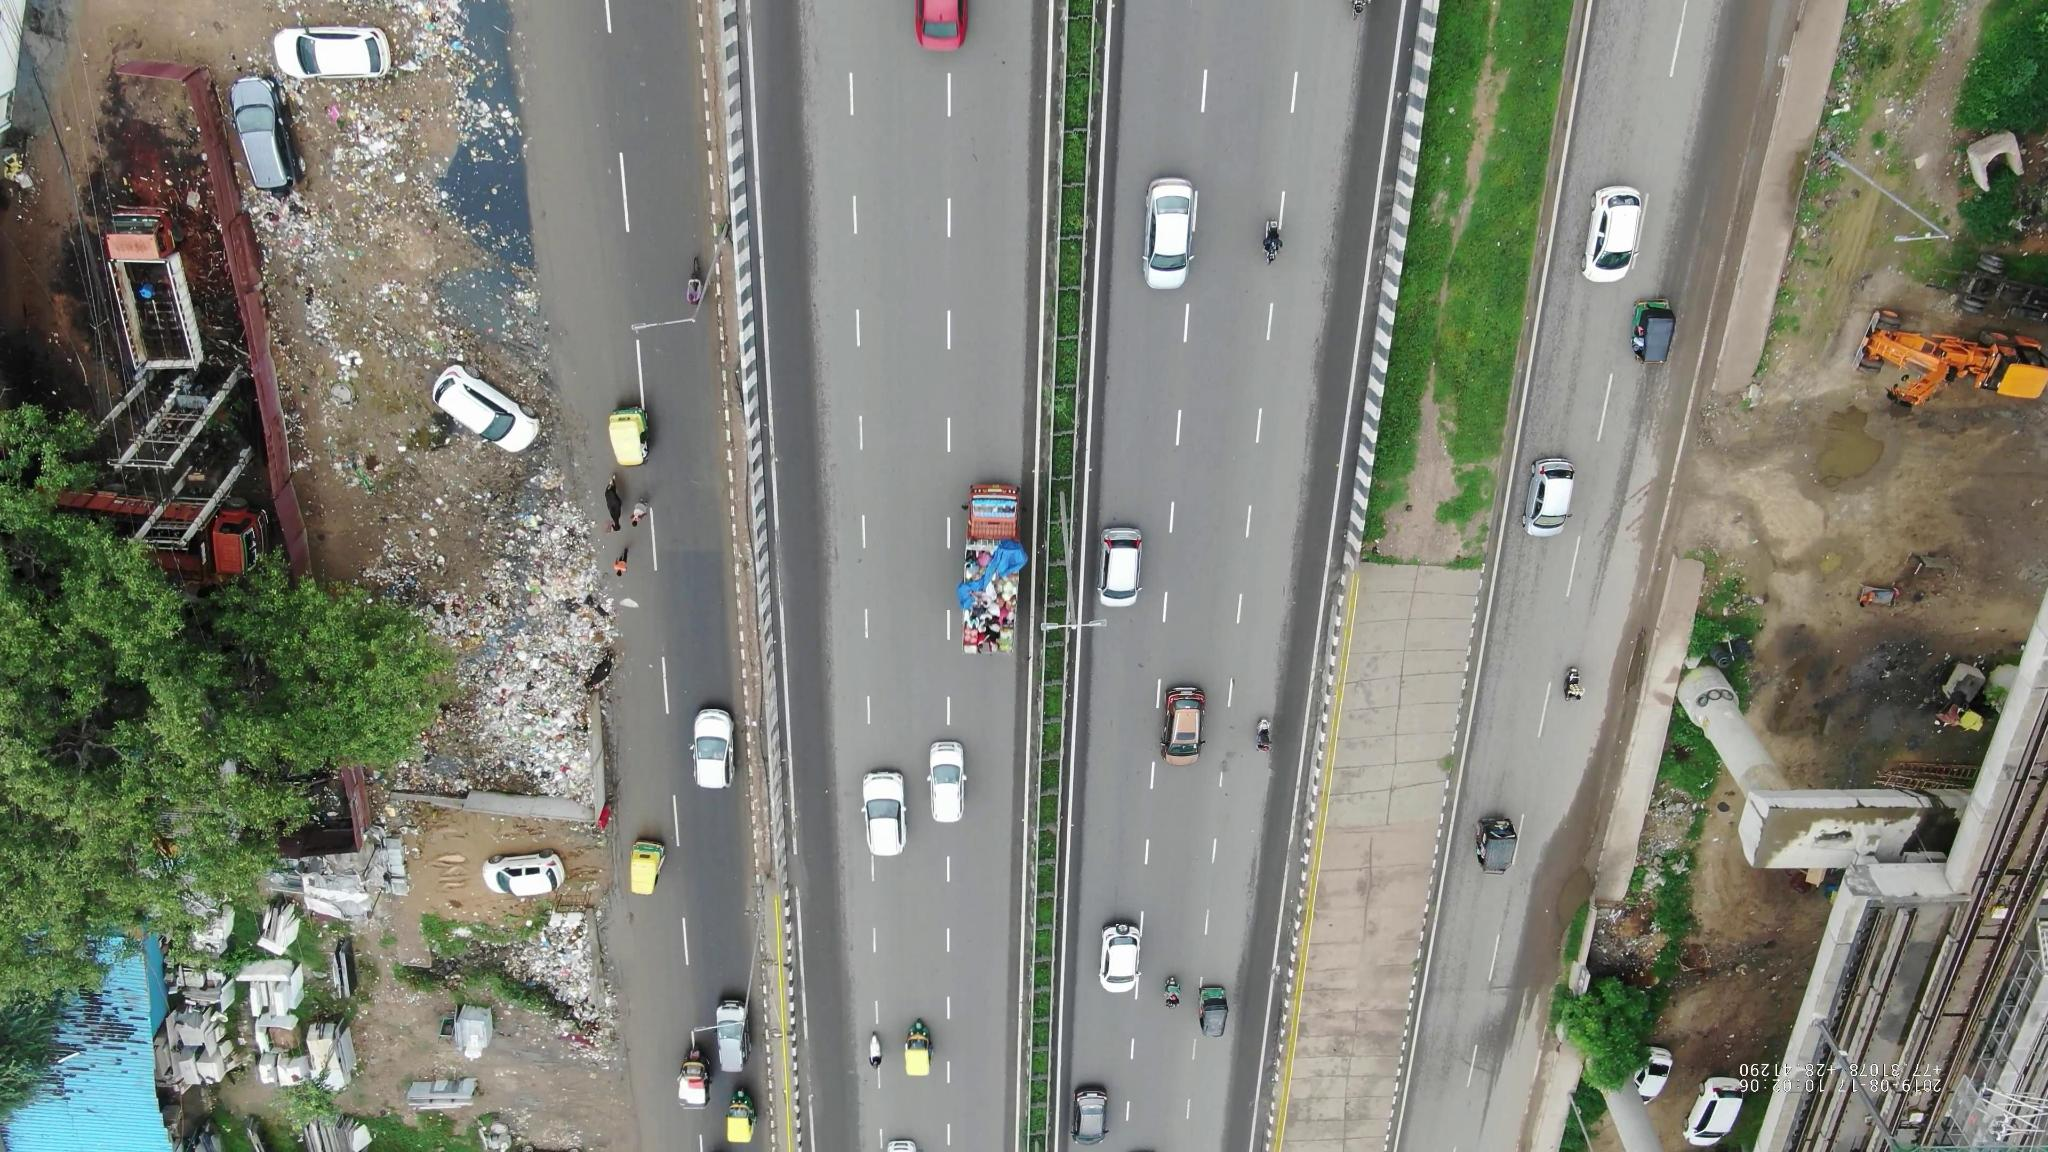Road_side_garbage: (454, 491, 608, 795), (495, 909, 615, 1044)
Waterlogging: (435, 8, 567, 349), (1526, 847, 1599, 926)
